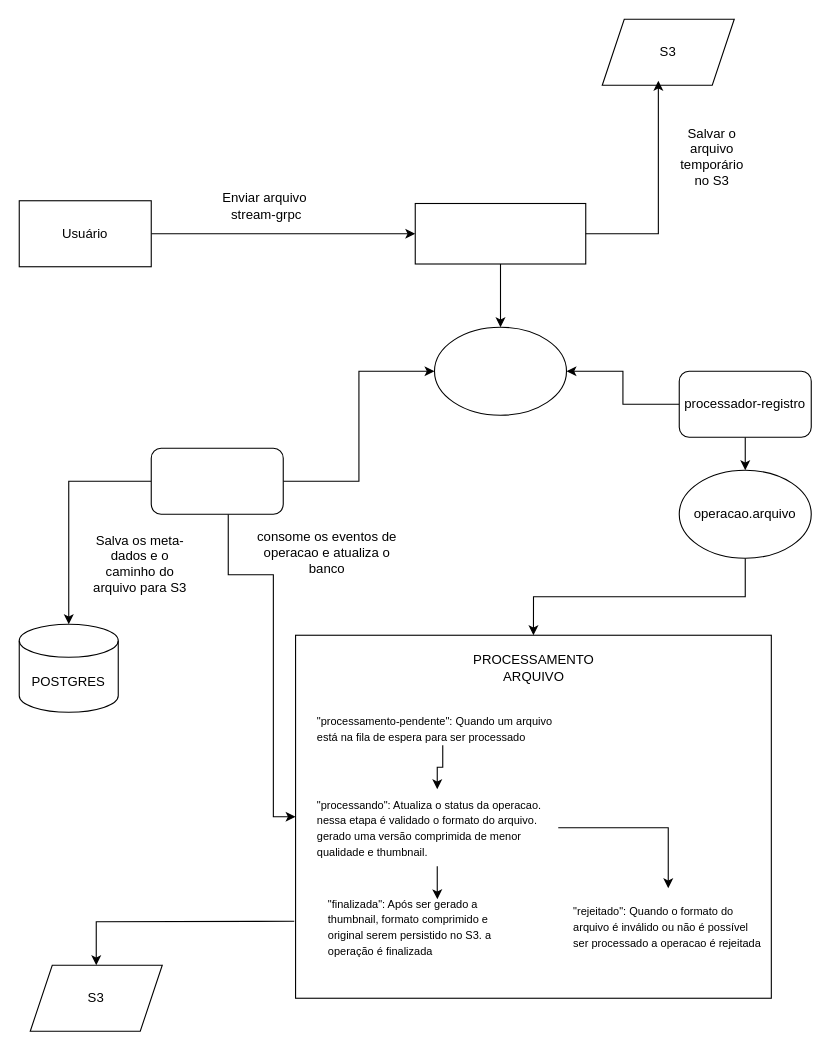
Some shapes in this 831 by 1051 pixel diagram are drawn without their labels. Here are the shapes that lost their labels. From the top down, the box of each, then its label:
(414, 202, 586, 264): api
(433, 326, 566, 415): registro.arquivo
(150, 447, 283, 514): processador-consulta
